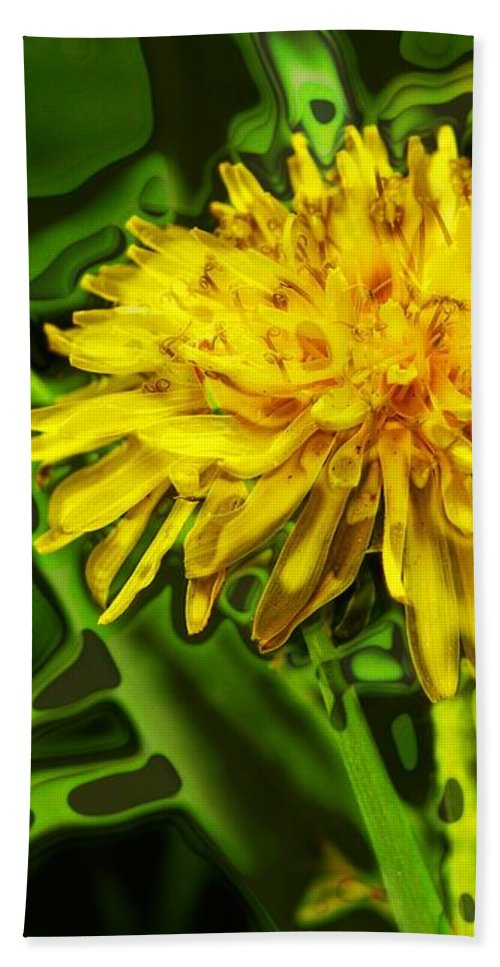dandelion: (67, 210, 463, 631)
